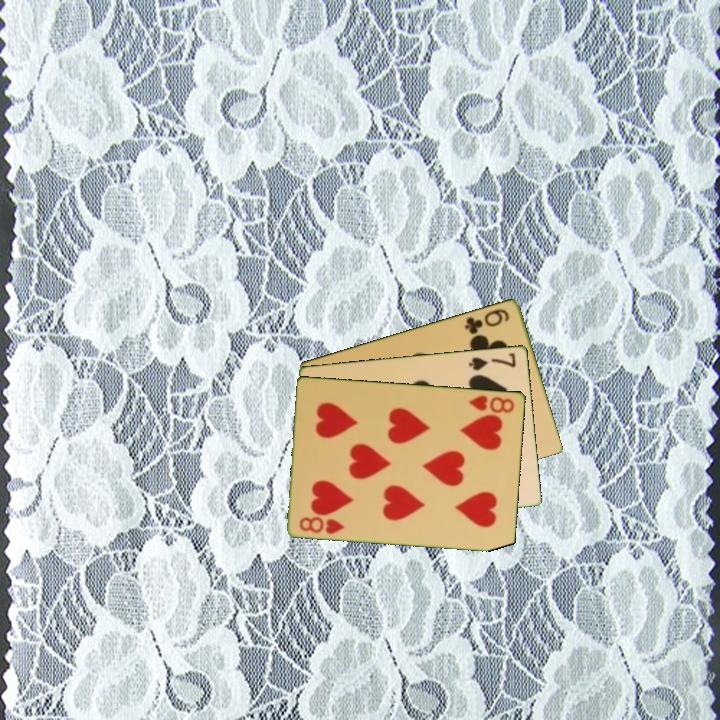6c: (461, 305, 512, 337)
7s: (466, 349, 519, 373)
8h: (465, 391, 518, 415), (296, 513, 347, 537)
